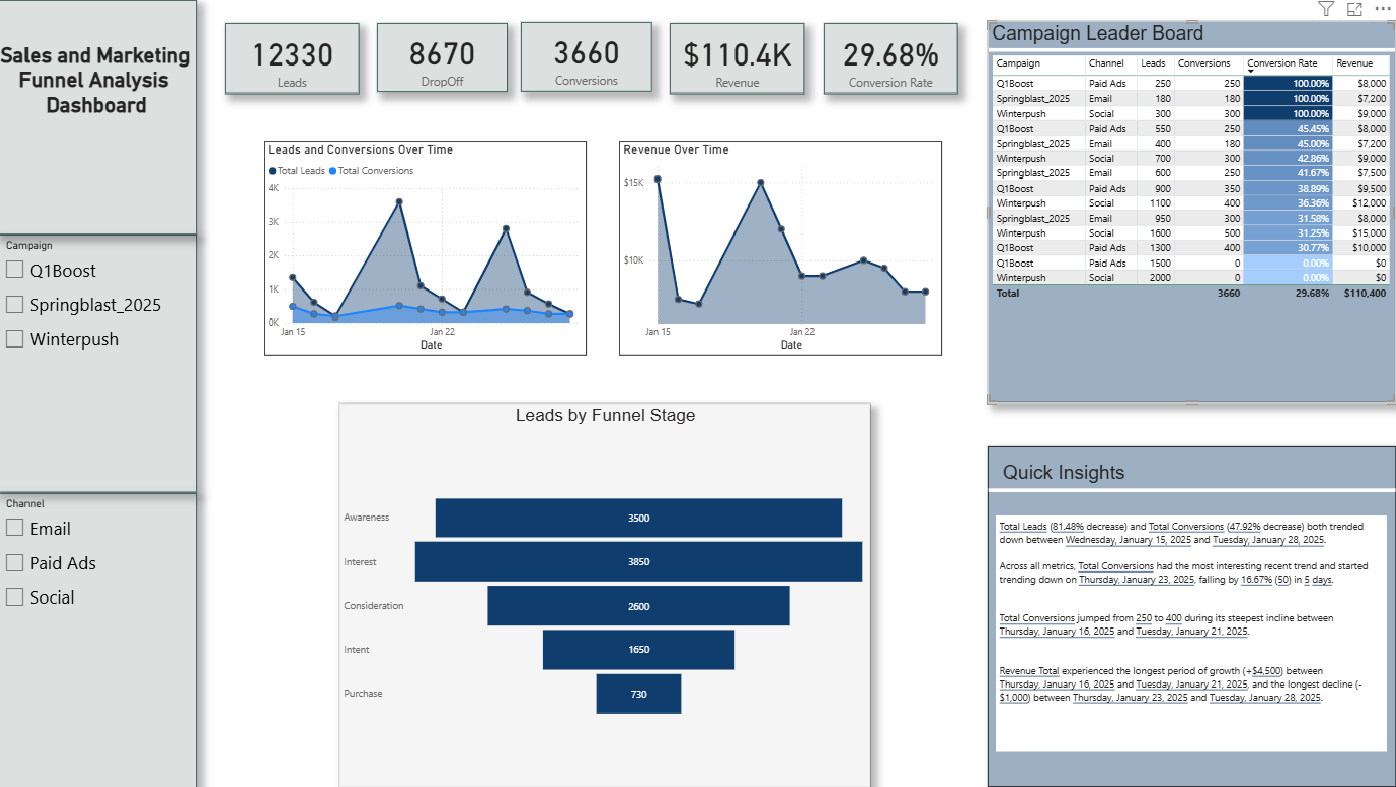

This screenshot's page, from the dashboard's own definition file:
{"tool":"powerbi","page":{"name":"Sales and Marketing Funnel Analysis","canvas":[1920,1080],"ordinal":0},"visuals":[{"type":"card","fields":{"Values":["Sum(CleanFunnelData.Leads)"]},"box":[314.3,30.9,184,95.4],"z":0},{"type":"card","fields":{"Values":["CleanFunnelData.Total Conversions"]},"box":[720,29.6,180,94],"z":1000},{"type":"card","fields":{"Values":["CleanFunnelData.Revenue T"]},"box":[924.2,30.9,185.4,95.4],"z":2000},{"type":"slicer","fields":{"Values":["CleanFunnelData.Campaign"]},"box":[0,314.3,275.4,345.2],"z":2000,"group":"g1"},{"type":"card","fields":{"Values":["CleanFunnelData.DropOff"]},"box":[522.5,30.9,178.7,92.7],"z":3000},{"type":"card","fields":{"Values":["CleanFunnelData.Conversion Rate"]},"box":[1135.1,30.9,184,95.4],"z":4000},{"type":"tableEx","title":"Campaign Leader Board","fields":{"Values":["CleanFunnelData.Campaign","CleanFunnelData.Leads","Sum(CleanFunnelData.Conversions)","CleanFunnelData.Conversion Rate","CleanFunnelData.Revenue Total"]},"box":[1359.4,28.2,560.1,511.8],"z":5000},{"type":"funnel","title":"Leads by Funnel Stage","fields":{"Category":["CleanFunnelData.Funnel Stage"],"Y":["CleanFunnelData.Leads_YTD"]},"box":[470.1,540,728.1,514.5],"z":6000},{"type":"lineChart","title":"Leads and Conversions Over Time","fields":{"Y":["CleanFunnelData.Total Leads","CleanFunnelData.Total Conversions"],"Category":["DateTable.Date"]},"box":[366.7,189.4,443.3,287.5],"z":7000},{"type":"lineChart","title":"Revenue Over Time","fields":{"Category":["DateTable.Date"],"Y":["CleanFunnelData.Revenue Total"]},"box":[854.3,189.4,443.3,287.5],"z":8000},{"type":"textbox","title":"Quick Insights","box":[1359.4,597.8,560.1,456.7],"z":9000},{"type":"group","id":"g1","title":"Group 1","box":[0,0,275.4,1080],"z":10000},{"type":"textbox","box":[1371.5,690.4,536,315.7],"z":10001},{"type":"slicer","fields":{"Values":["CleanFunnelData.Channel"]},"box":[0,659.6,275.4,420.4],"z":12000,"group":"g1"},{"type":"textbox","box":[0,0,275.4,314.3],"z":13000,"group":"g1"}]}

Visuals, with their boxes in screenshot pixels (x1, y1, x2, y2), scaled from the page's 1920x1080 canvas onto the 1396x787 screenshot:
card - Sum(CleanFunnelData.Leads): box(229, 23, 362, 92)
card - CleanFunnelData.Total Conversions: box(524, 22, 654, 90)
card - CleanFunnelData.Revenue T: box(672, 23, 807, 92)
slicer - CleanFunnelData.Campaign: box(0, 229, 200, 481)
card - CleanFunnelData.DropOff: box(380, 23, 510, 90)
card - CleanFunnelData.Conversion Rate: box(825, 23, 959, 92)
"Campaign Leader Board" tableEx: box(988, 21, 1395, 394)
"Leads by Funnel Stage" funnel: box(342, 394, 871, 768)
"Leads and Conversions Over Time" lineChart: box(267, 138, 589, 348)
"Revenue Over Time" lineChart: box(621, 138, 943, 348)
"Quick Insights" textbox: box(988, 436, 1395, 768)
"Group 1" group: box(0, 0, 200, 786)
textbox: box(997, 503, 1387, 733)
slicer - CleanFunnelData.Channel: box(0, 481, 200, 786)
textbox: box(0, 0, 200, 229)
